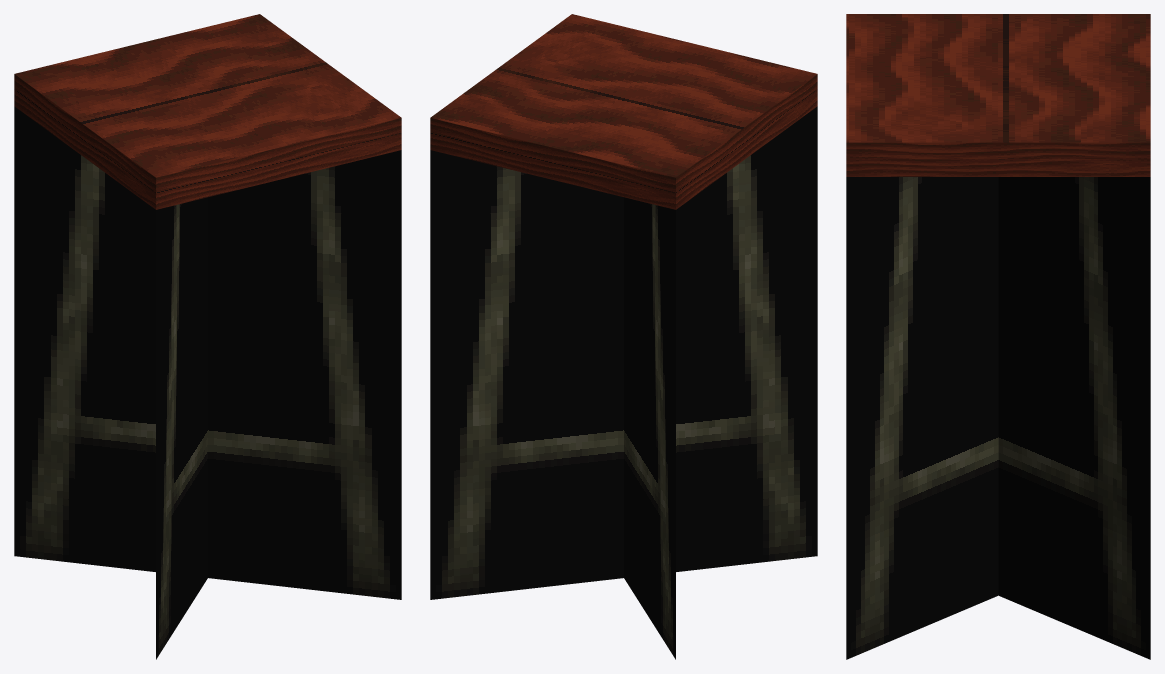
The model's file is prop_stool-0.glb.
The picture shows the model from 3 angles, left to right: view 1: azimuth 30°, elevation 25°; view 2: azimuth 150°, elevation 25°; view 3: azimuth 270°, elevation 25°; orthographic projection. The views are drawn at different scales.
Parts seen in each view (by area): view 1: prop_stool-0; view 2: prop_stool-0; view 3: prop_stool-0.
Boxes of the visible parts, bbox=[...] form: prop_stool-0: bbox=[14, 14, 401, 659]; prop_stool-0: bbox=[430, 14, 817, 659]; prop_stool-0: bbox=[846, 14, 1150, 659].
Bounding box in the file's own units: 0.32 × 0.6 × 0.32.
2 materials, 2 textured.
